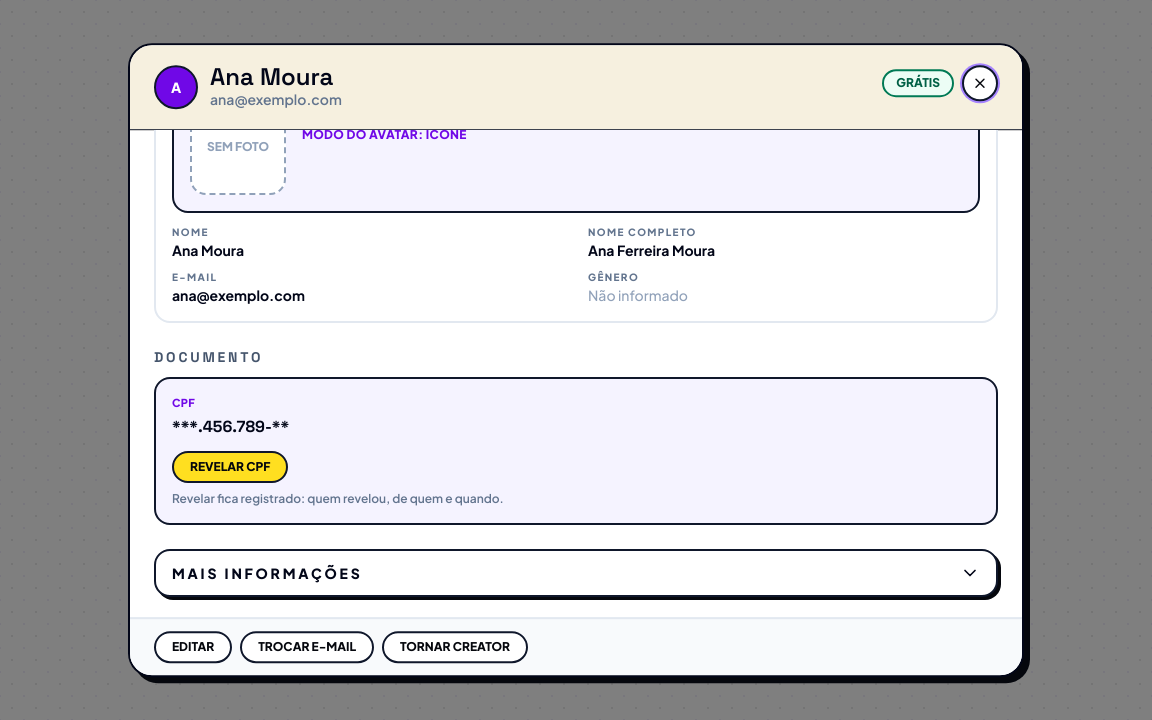
Test: dropdown Mais informacoes › aplica o resultado do PostHog em vez de ficar carregando para sempre
(page scrolled)
Click the button "Mais informações" at (267, 573), box [154,549,998,597]
(page scrolled)
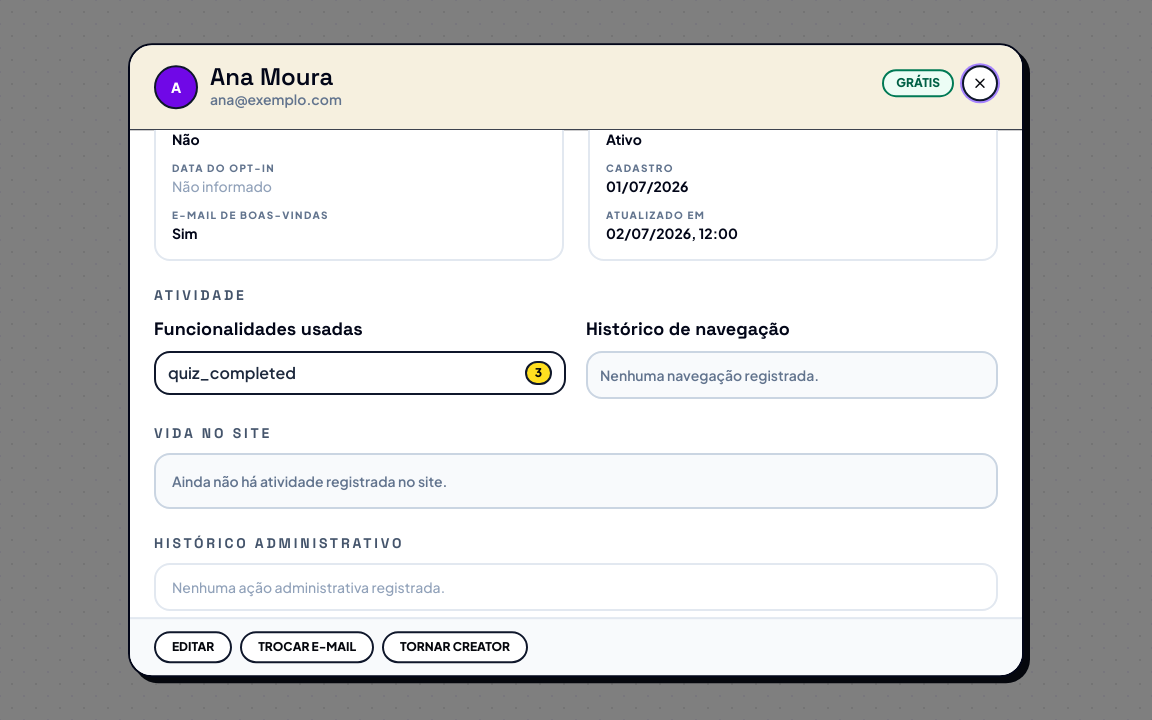
Result: the text "quiz_completed" is shown at [168,361,296,385]
